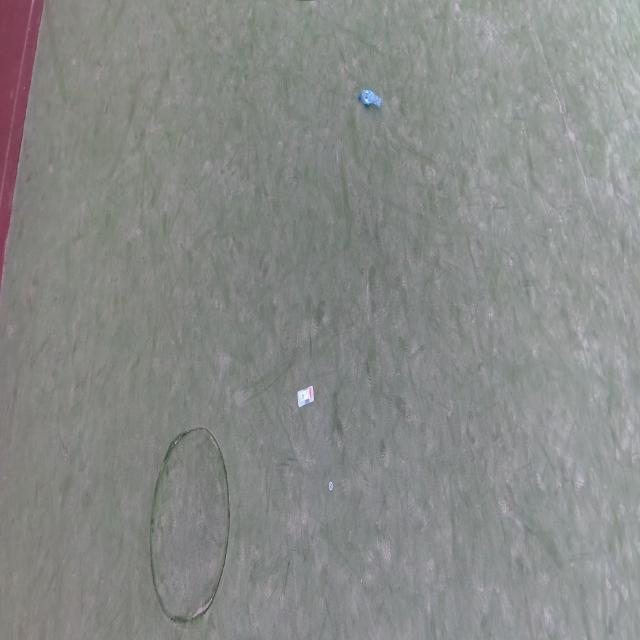rubbish: (359, 90, 382, 109), (297, 385, 315, 409), (329, 481, 333, 491)
